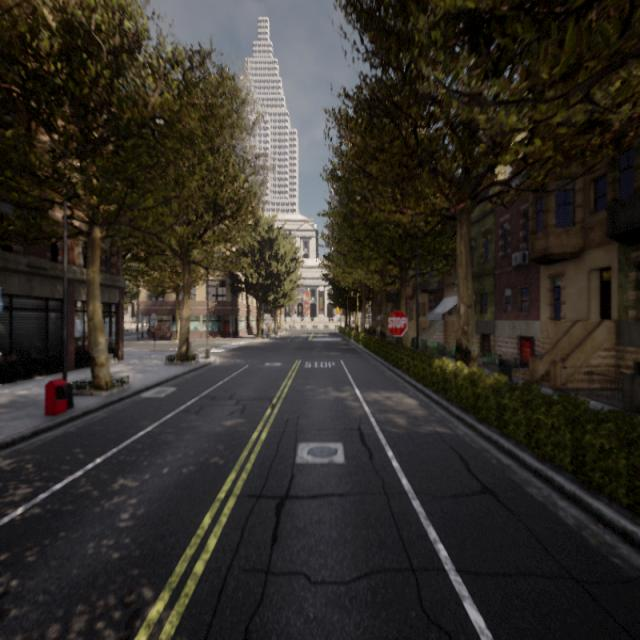stop sign: (384, 306, 410, 339)
